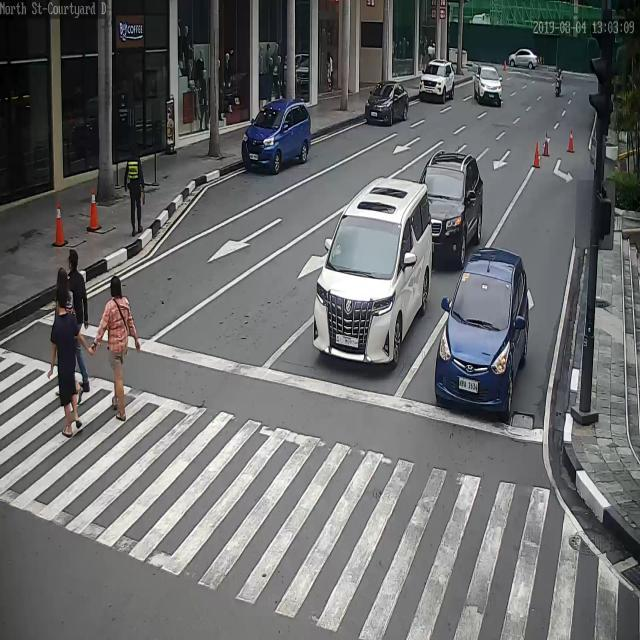car: (437, 250, 534, 415), (421, 152, 484, 272), (241, 98, 311, 175), (364, 84, 410, 130), (418, 61, 455, 105), (473, 64, 504, 106), (507, 49, 540, 70)
jeepney: (553, 65, 564, 96)
van: (313, 178, 435, 367)
